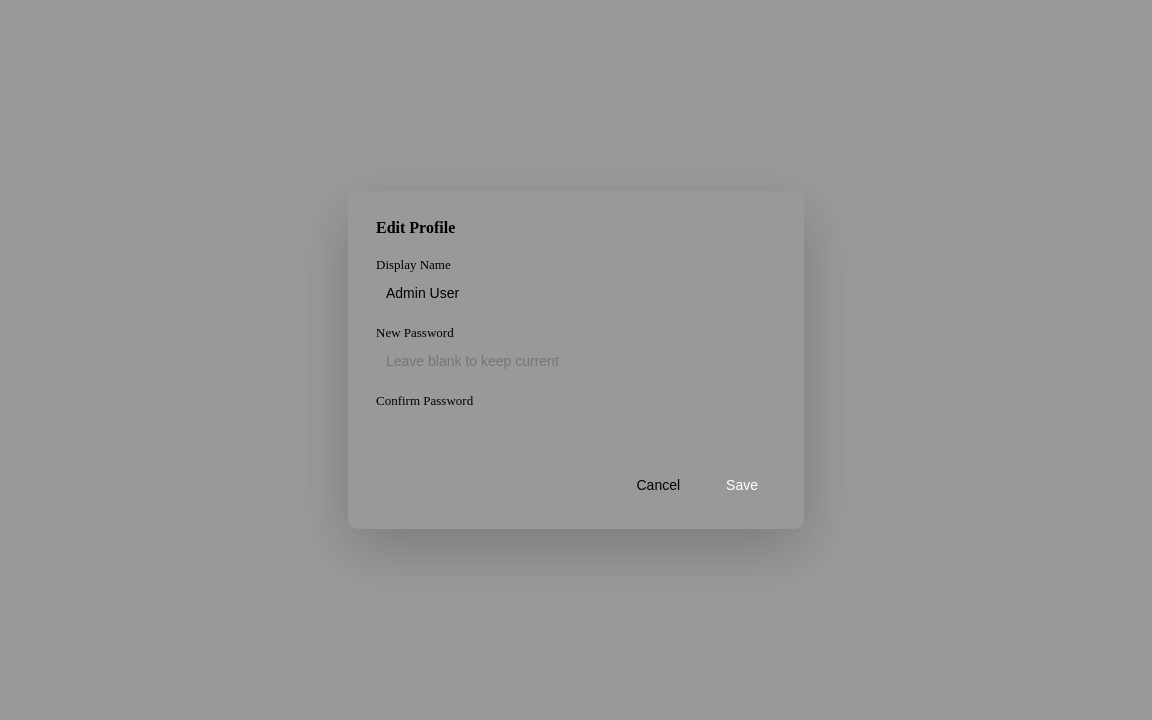
SelfEditProfileModal › dismisses error banner when close button clicked
The width and height of the screenshot is (1152, 720).
Replace the text in the field labelled "Display Name" with "New Name" at [576, 293], box [376, 277, 776, 309]
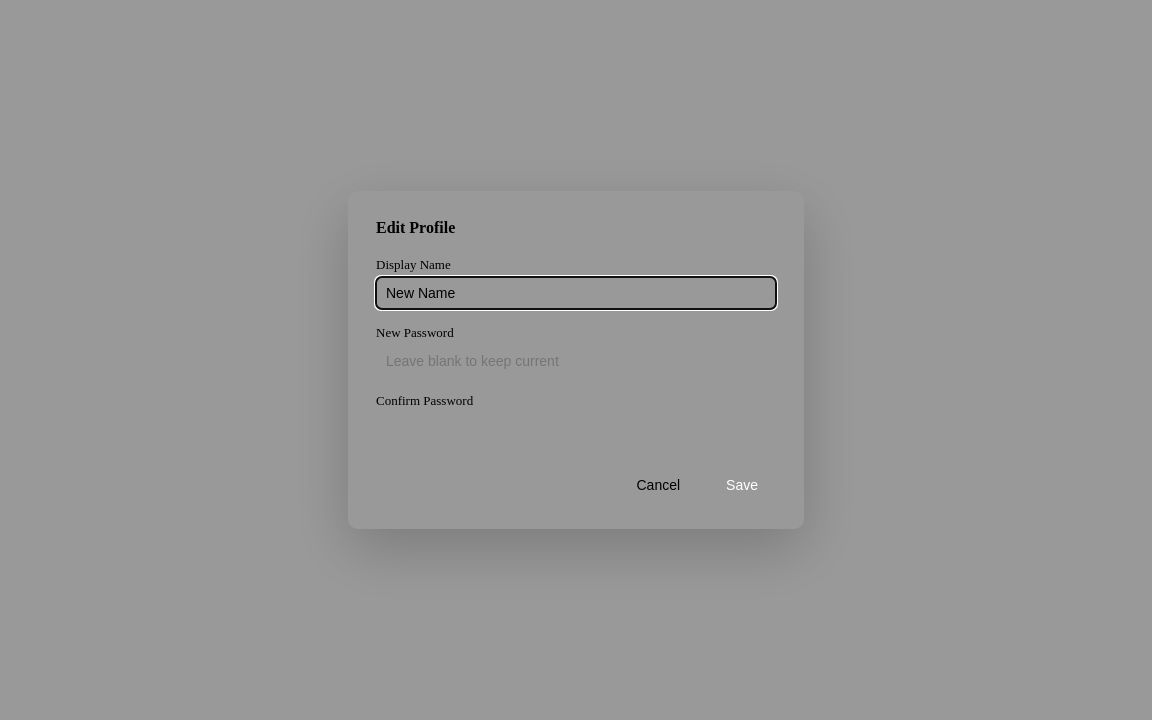
Click the button "Save" at [742, 485], box [708, 469, 776, 501]
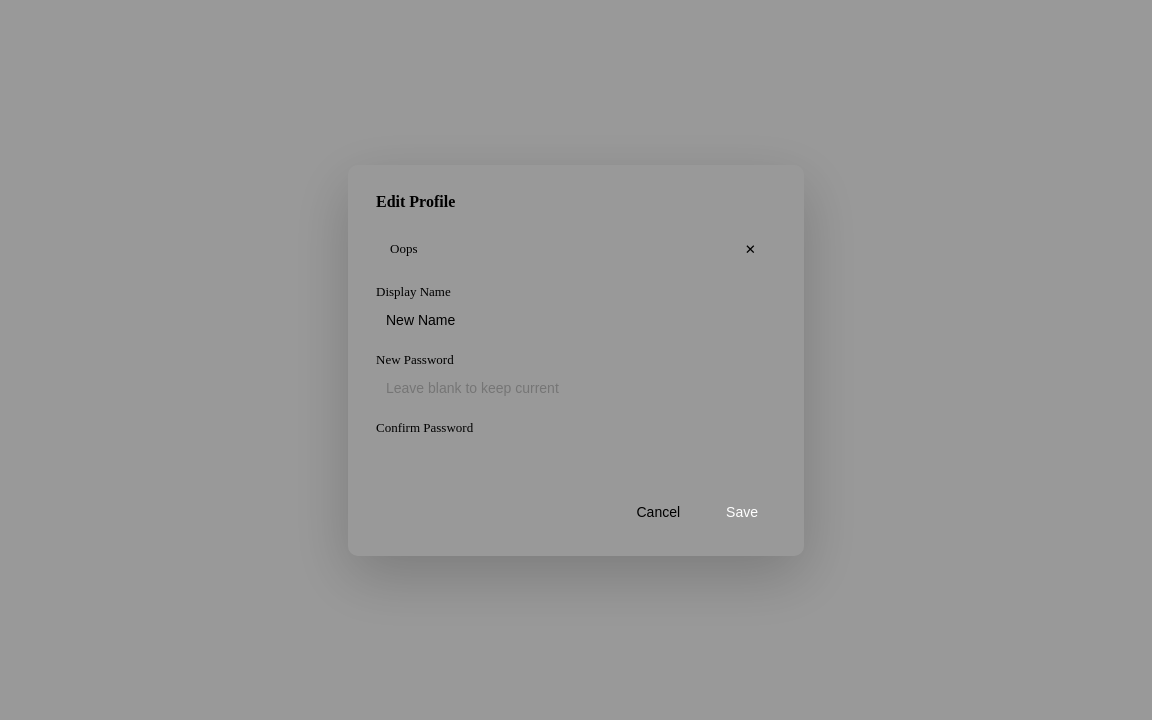
Expected: the message "Oops ✕" is shown, [390, 240, 762, 258]
Click the button named "dismiss" at [750, 249], box [739, 240, 762, 258]
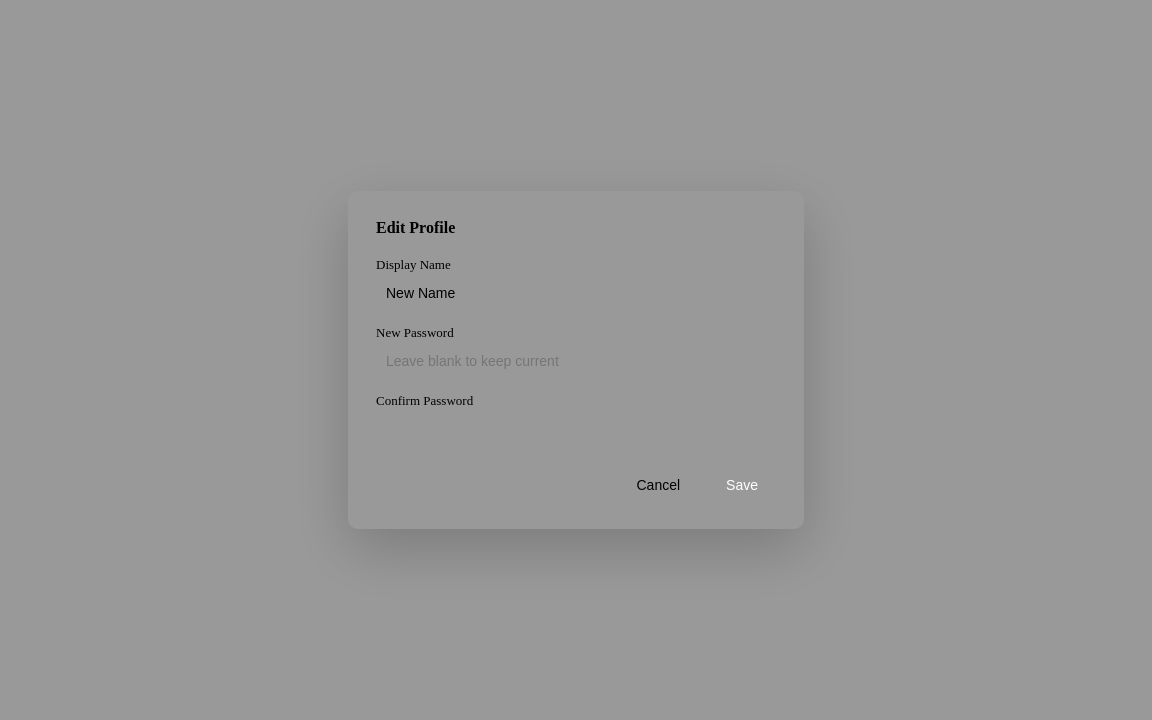
Expected: the message "Oops ✕" is gone
